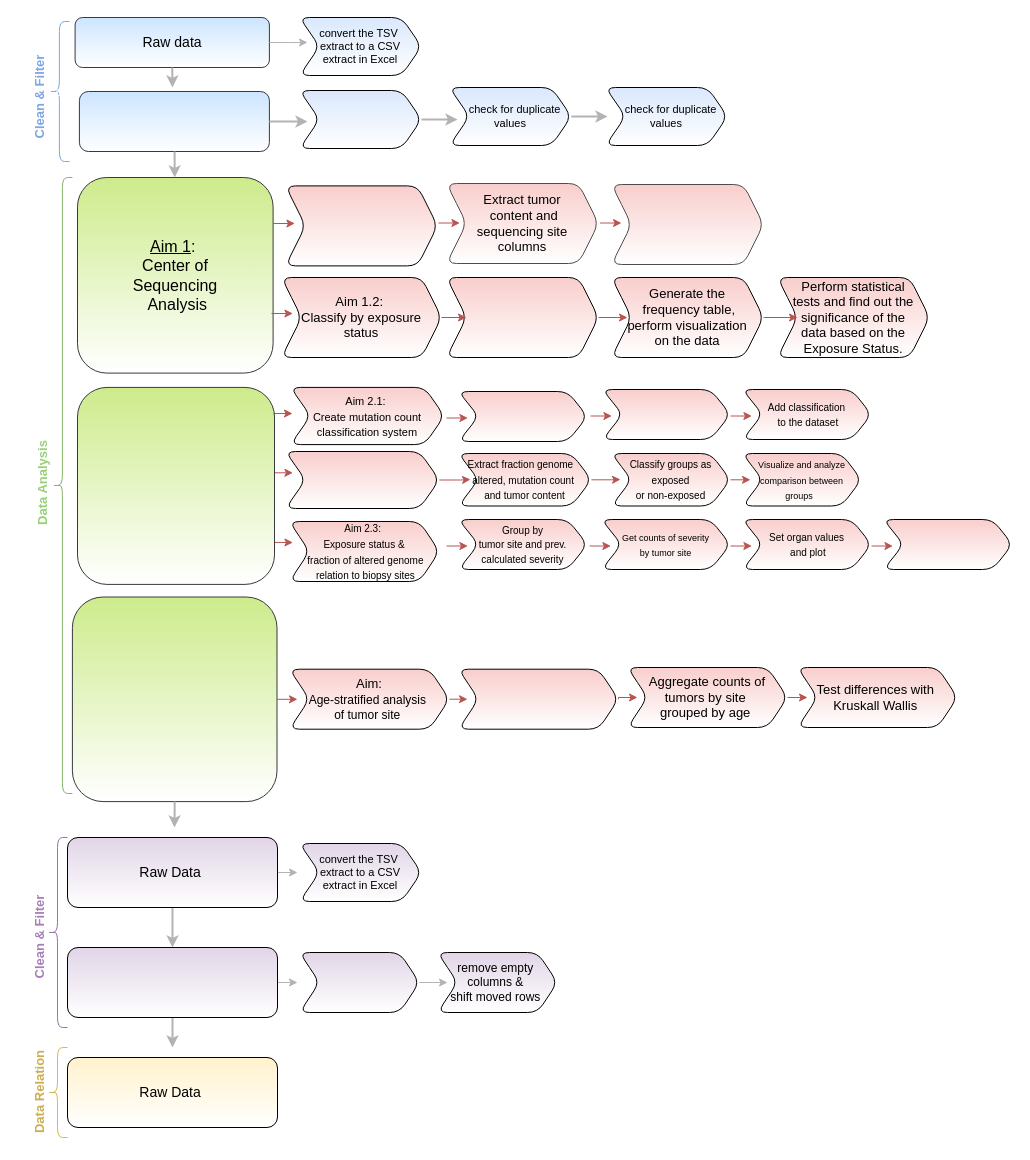
The diagram is 1030 pixels wide and 1160 high, and some of its shapes have lost their labels. The shapes that lost their labels are listed below. From the top down, each one's centre as x and y in pixels, then its label:
At pixel 173 121: "Cleaning the cBioPortal data in R".
At pixel 360 119: "Remove NAs with na.omit".
At pixel 361 225: "Aim 1.1: Classify severity of cancer by site".
At pixel 687 224: "Numerically and visually summarize tumor content in relation to sequencing site".
At pixel 522 317: "Extract Exposure Status column and group it by prior treatment column".
At pixel 523 416: "Extract the tumor content range".
At pixel 666 414: "Fix a threshold and classify, if they are (high, medium or low)".
At pixel 175 485: "Aim 2 : Mutation Count Classification System".
At pixel 361 479: "Aim 2.2: Link in exposure status and patient characteristics".
At pixel 947 544: "Get biopsy site frequencies and plot".
At pixel 174 699: "Bonus Aim : Association Between Diagnosis Age and Tumor Site".
At pixel 538 698: "Discern distribution of diagnosis age & unique tumor sites".
At pixel 172 982: "Cleaning the NCI GDC data in Excel".
At pixel 359 982: "Determine empty columns & missing values".
